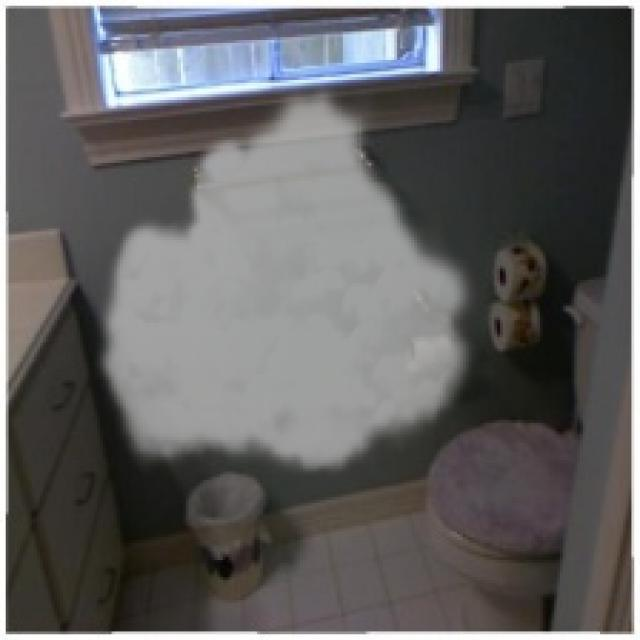Smoke: (94, 80, 483, 477)
